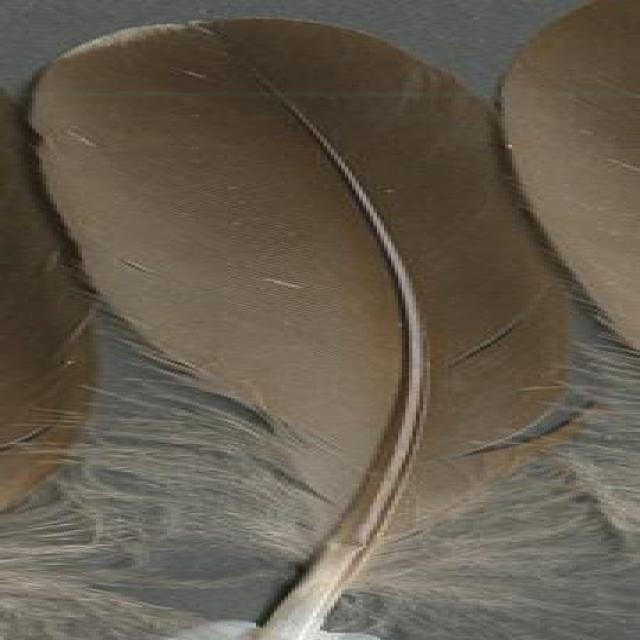feather: (21, 13, 569, 640)
